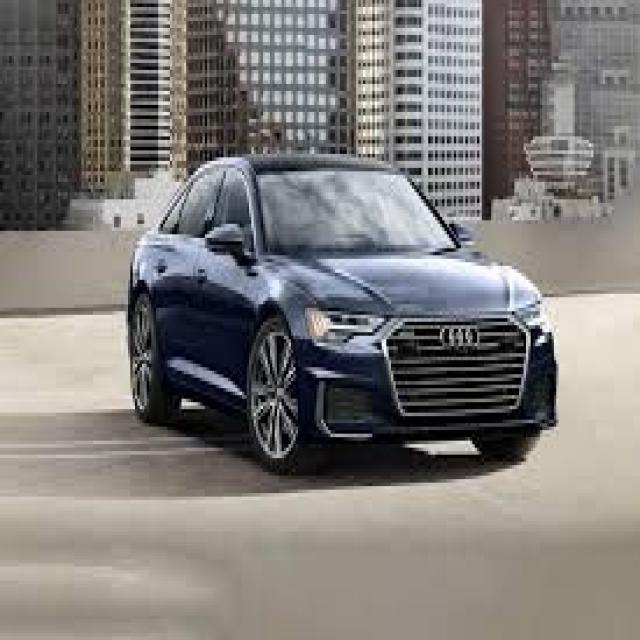SUV: (133, 146, 566, 472)
